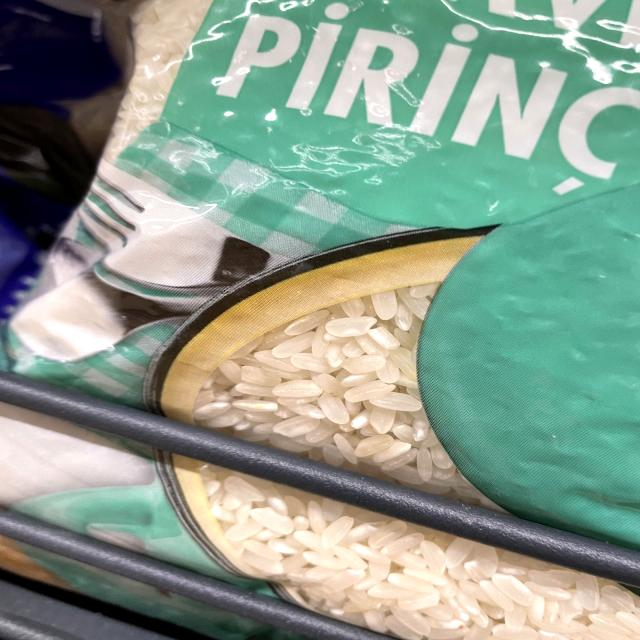rice: (220, 330, 429, 449)
